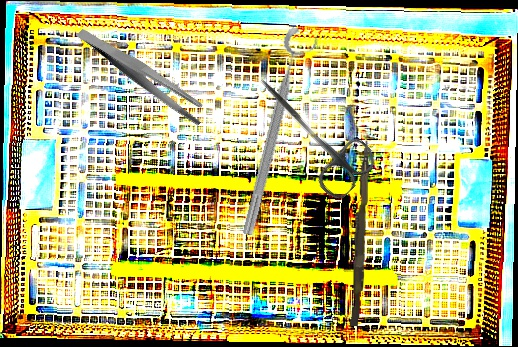Dressing Forceps: (74, 0, 212, 150)
Fixation Ring: (235, 25, 323, 241)
Iris Scissors: (237, 60, 382, 204)
Pusher: (350, 140, 370, 327)
